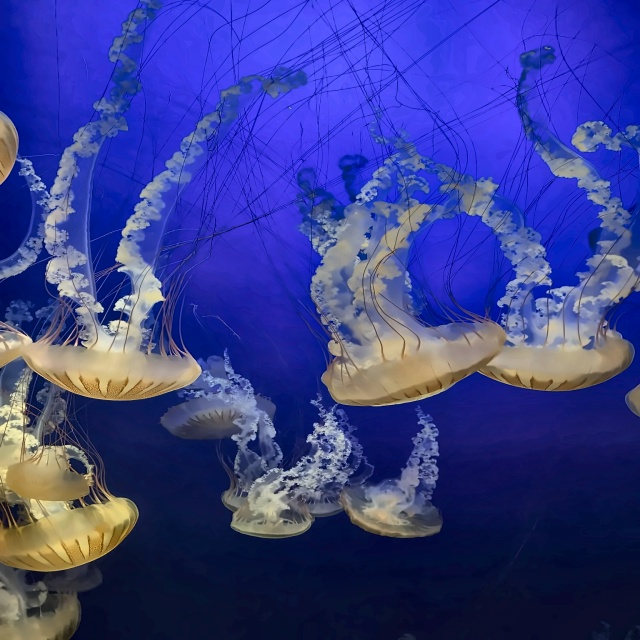jellyfish: (321, 315, 510, 407), (19, 336, 202, 402), (0, 491, 140, 572), (469, 325, 635, 392), (0, 442, 96, 509), (334, 481, 445, 538), (0, 589, 81, 639), (221, 500, 317, 538), (167, 407, 256, 440), (278, 491, 351, 522), (0, 321, 35, 376), (216, 487, 272, 518), (0, 111, 20, 190)
